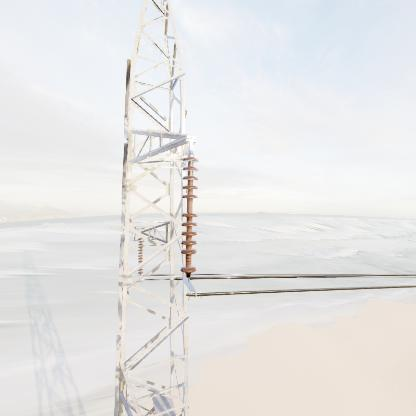insulator: (176, 155, 201, 279)
